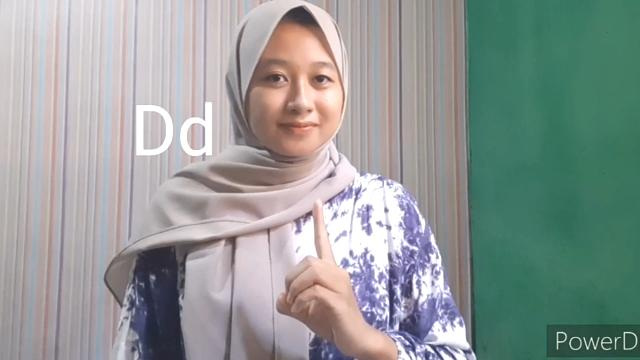D: (272, 200, 376, 358)
